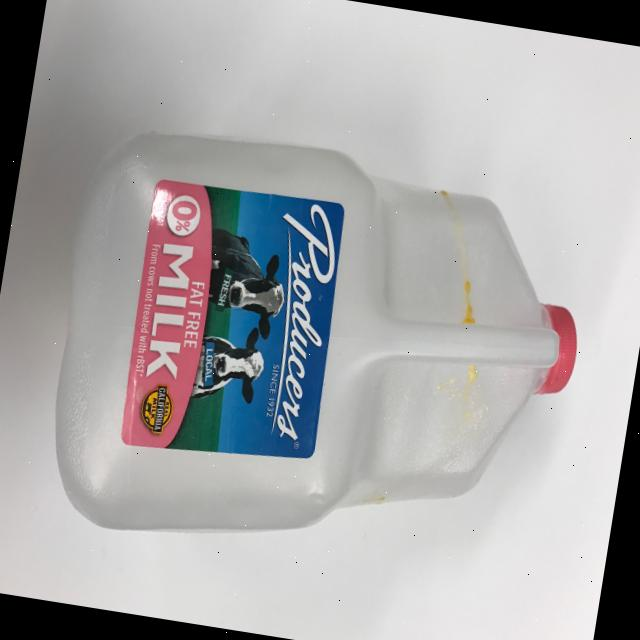plastic: (29, 110, 601, 596)
